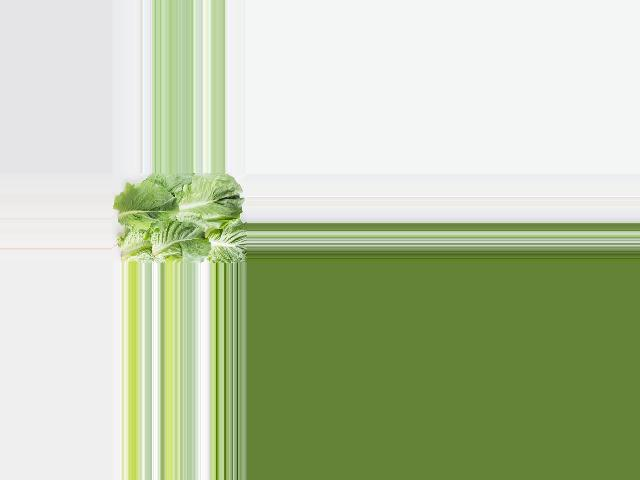lettuce: (116, 175, 243, 264)
